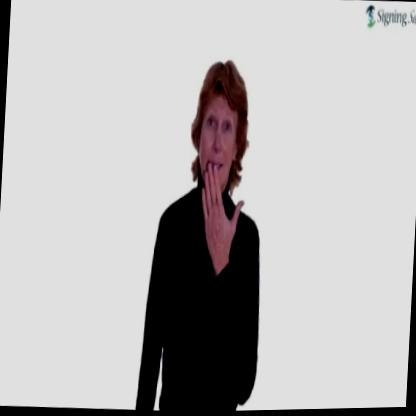ThankYou: (132, 51, 279, 414)
